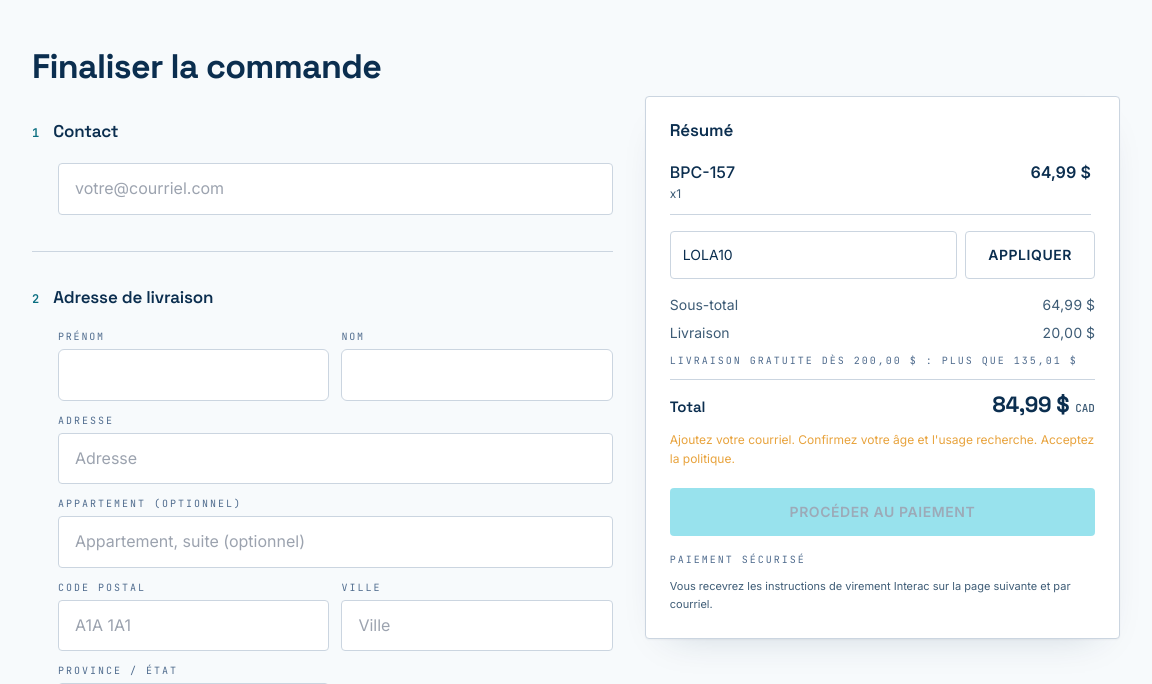
Test: le préremplissage ne bloque pas la seconde tentative
The image size is (1152, 684).
Expected: the field with test id "coupon-input" holds "LOLA10", [670, 231, 957, 279]
In the field with test id "checkout-email": [335, 189] box [58, 163, 613, 215], type "lola@example.com"
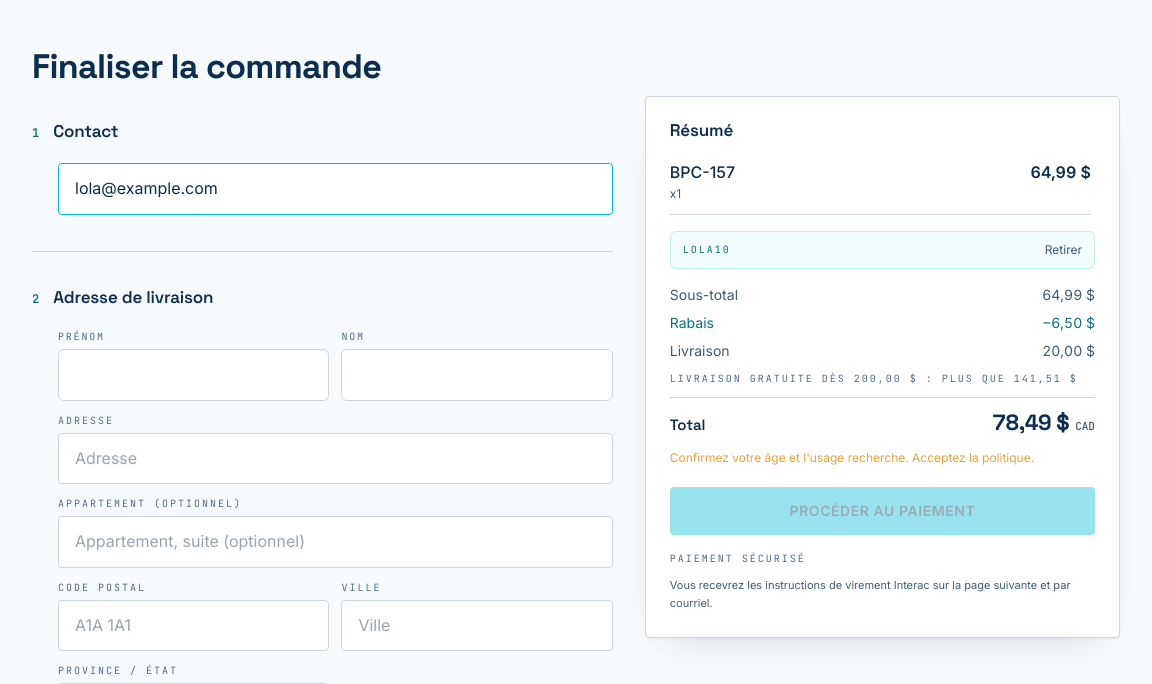
Result: the button with test id "coupon-remove" is shown at [1045, 242, 1082, 258]
